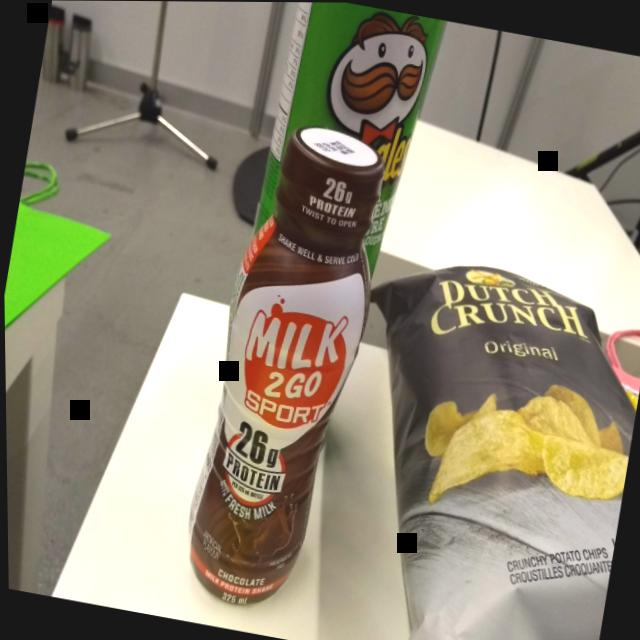chocolate_drink: (164, 109, 406, 630)
potato_chips: (301, 237, 640, 640)
